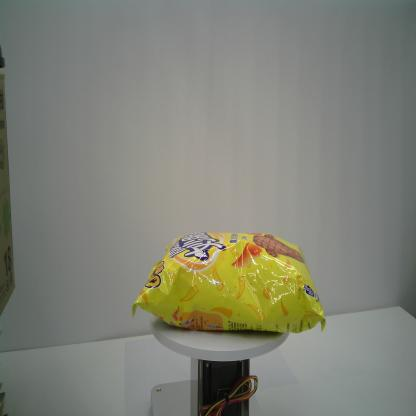Puffed Food: (131, 229, 327, 335)
